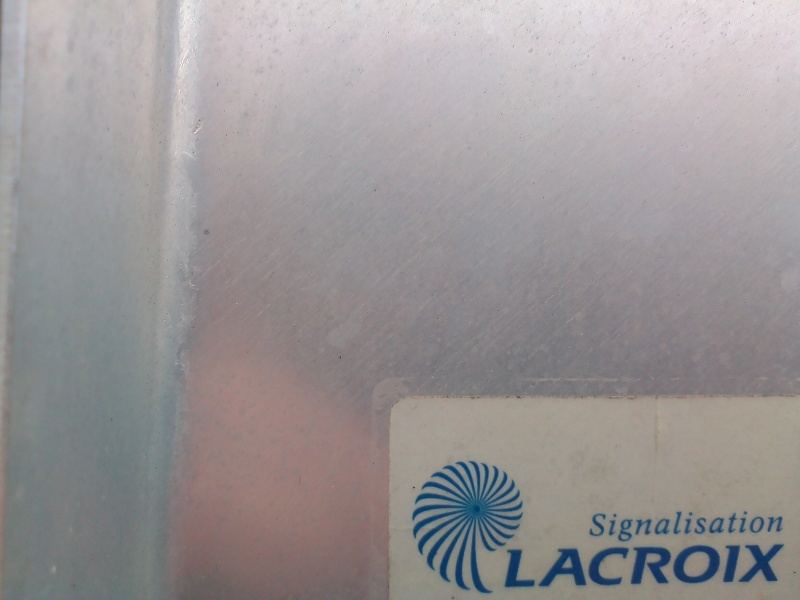text: (769, 543, 785, 591), (513, 543, 528, 591), (529, 543, 544, 591), (545, 543, 560, 591), (561, 543, 576, 591), (577, 543, 592, 591), (593, 543, 608, 591), (609, 543, 624, 591), (625, 543, 640, 591), (641, 543, 656, 591), (657, 543, 672, 591), (673, 543, 688, 591), (689, 543, 704, 591), (705, 543, 720, 591), (721, 543, 736, 591), (737, 543, 752, 591), (753, 543, 768, 591), (593, 510, 608, 544), (609, 510, 624, 544), (625, 510, 640, 544), (641, 510, 656, 544), (657, 510, 672, 544), (673, 510, 688, 544), (689, 510, 704, 544), (705, 510, 720, 544), (721, 510, 736, 544), (737, 510, 752, 544), (753, 510, 768, 544), (769, 510, 784, 544), (505, 543, 512, 591), (588, 510, 592, 544), (785, 510, 788, 544)
